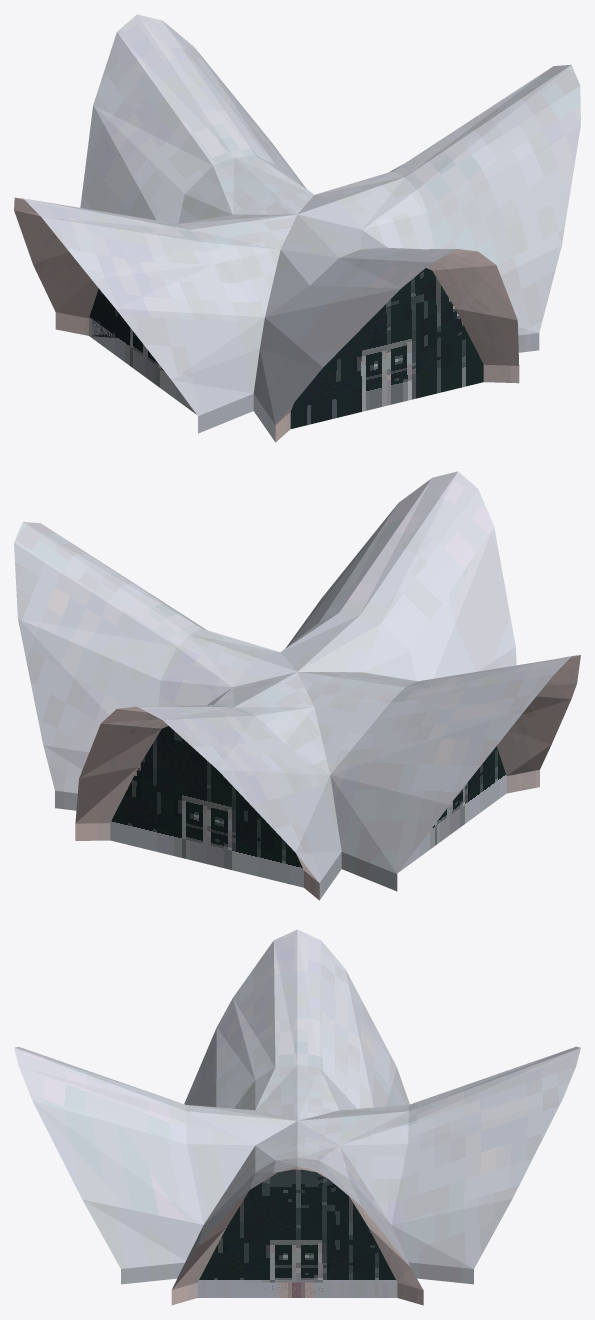
The model's file is lodoncha_lvs.obj.
The picture shows the model from 3 angles, top to bottom: view 1: azimuth 30°, elevation 25°; view 2: azimuth 150°, elevation 25°; view 3: azimuth 270°, elevation 25°; orthographic projection. The views are drawn at different scales.
Parts seen in each view (by area): view 1: lodoncha_lvs; view 2: lodoncha_lvs; view 3: lodoncha_lvs.
Boxes of the visible parts, x1,y1,x2,y2 form: lodoncha_lvs: (14, 14, 580, 442); lodoncha_lvs: (14, 471, 580, 900); lodoncha_lvs: (14, 929, 580, 1305).
Bounding box in the file's own units: 25.05 × 9.11 × 25.38.
1 material, 1 textured.
